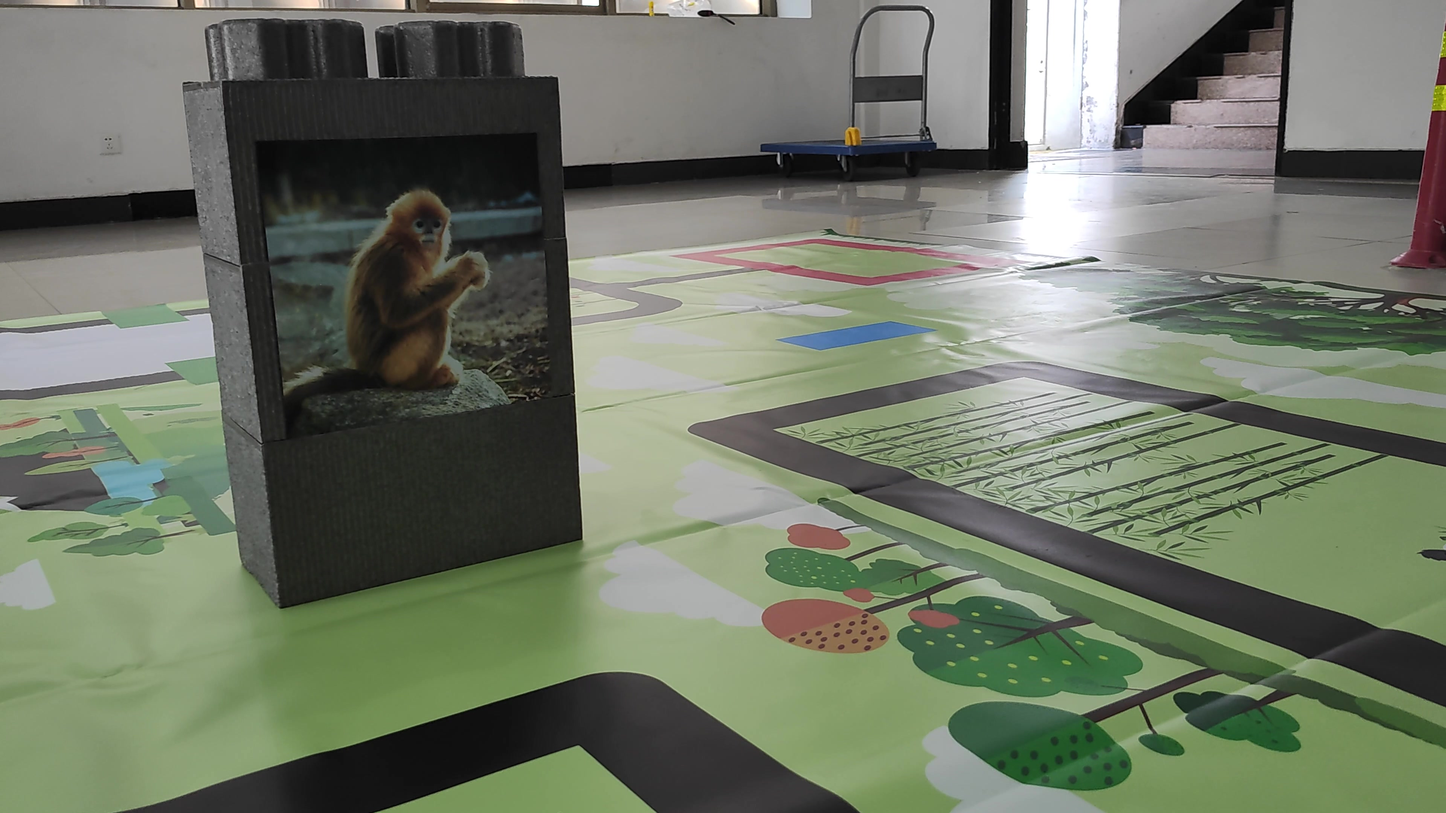monkey: (284, 161, 489, 424)
